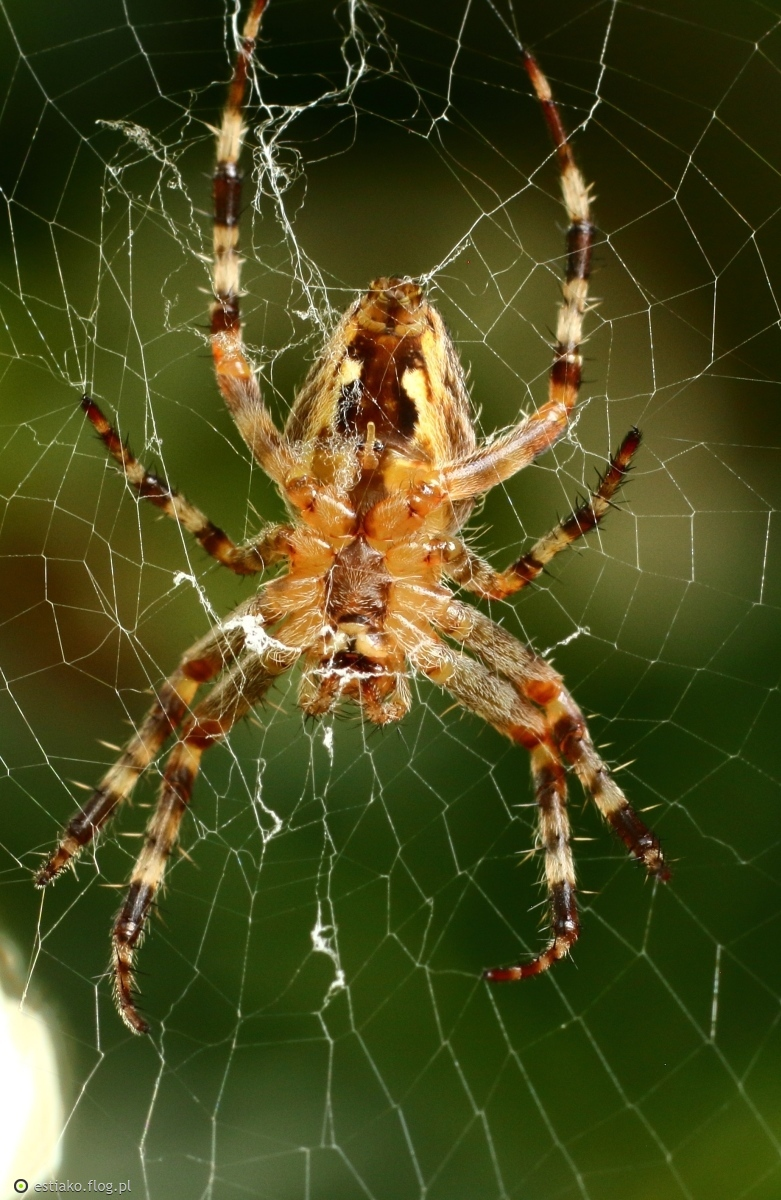spider: (4, 6, 708, 1016)
